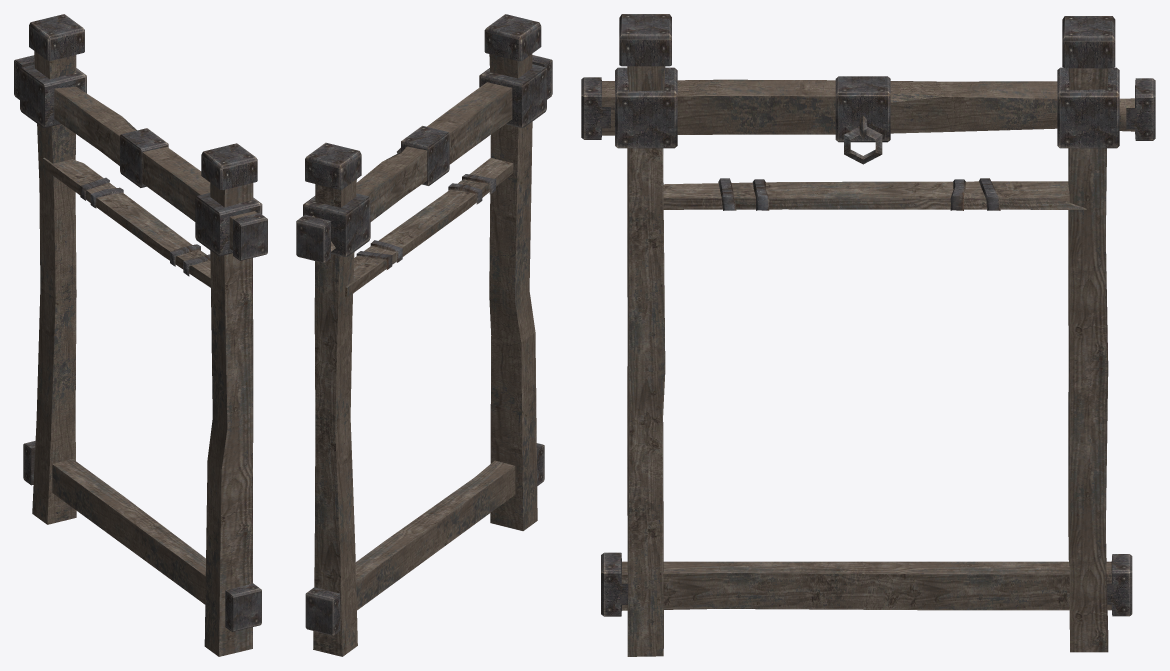
Rendered from bg_anh_mirrorv_bm01_7_6_sm_old.FBX.
3 views of the same model, side by side, from view 1: azimuth 30°, elevation 25°; view 2: azimuth 150°, elevation 25°; view 3: azimuth 270°, elevation 25° (orthographic). The views are drawn at different scales.
Parts seen in each view (by area): view 1: bg_anh_mirrorv_bm01_7_6_sm_old; view 2: bg_anh_mirrorv_bm01_7_6_sm_old; view 3: bg_anh_mirrorv_bm01_7_6_sm_old.
Part boxes in pixels (x1,y1,x2,y2): bg_anh_mirrorv_bm01_7_6_sm_old: (14,14,267,656); bg_anh_mirrorv_bm01_7_6_sm_old: (296,14,552,656); bg_anh_mirrorv_bm01_7_6_sm_old: (581,14,1155,656).
Size of the model in its own units: 26.31 by 243 by 203.
